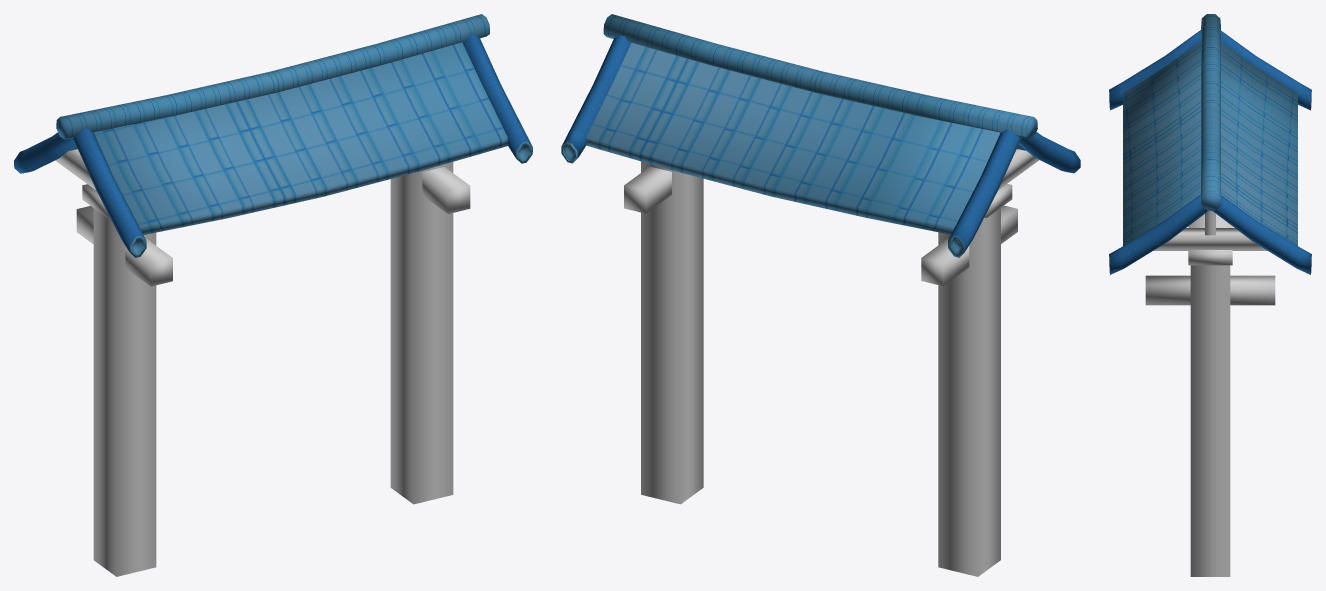
File: Gate_1.fbx
3 renders of one model, left to right at view 1: azimuth 30°, elevation 25°; view 2: azimuth 150°, elevation 25°; view 3: azimuth 270°, elevation 25°, orthographic. The views are drawn at different scales.
Visible parts, largest first — view 1: Gate_1; view 2: Gate_1; view 3: Gate_1.
Boxes of the visible parts, x1,y1,x2,y2 form: Gate_1: (14,14,532,576); Gate_1: (561,14,1080,576); Gate_1: (1109,14,1311,576).
Size of the model in its own units: 4.31 by 4.48 by 2.05.
